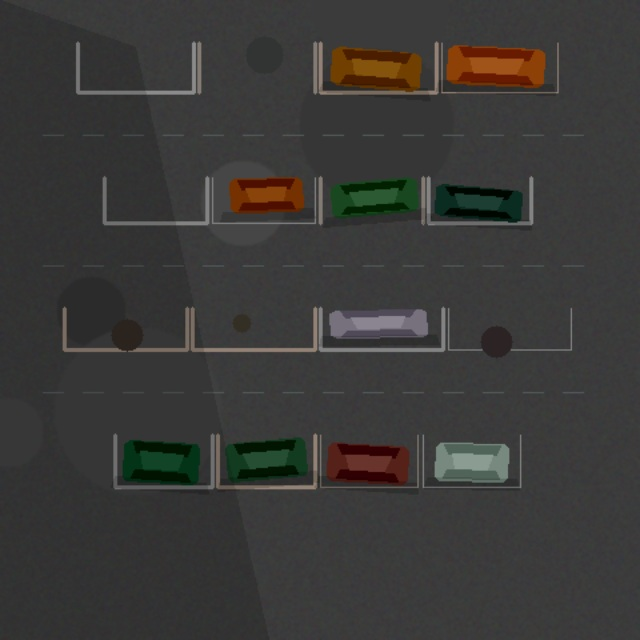space-empty: (77, 43, 193, 92), (199, 43, 315, 92), (64, 308, 187, 349), (192, 308, 315, 349), (448, 308, 571, 349), (104, 177, 207, 223)
space-occupied: (320, 43, 436, 92), (441, 43, 557, 92), (217, 435, 315, 487), (115, 435, 212, 487), (320, 435, 417, 487), (423, 435, 520, 487), (320, 308, 443, 349), (212, 177, 315, 223), (320, 177, 423, 223), (428, 177, 531, 223)
